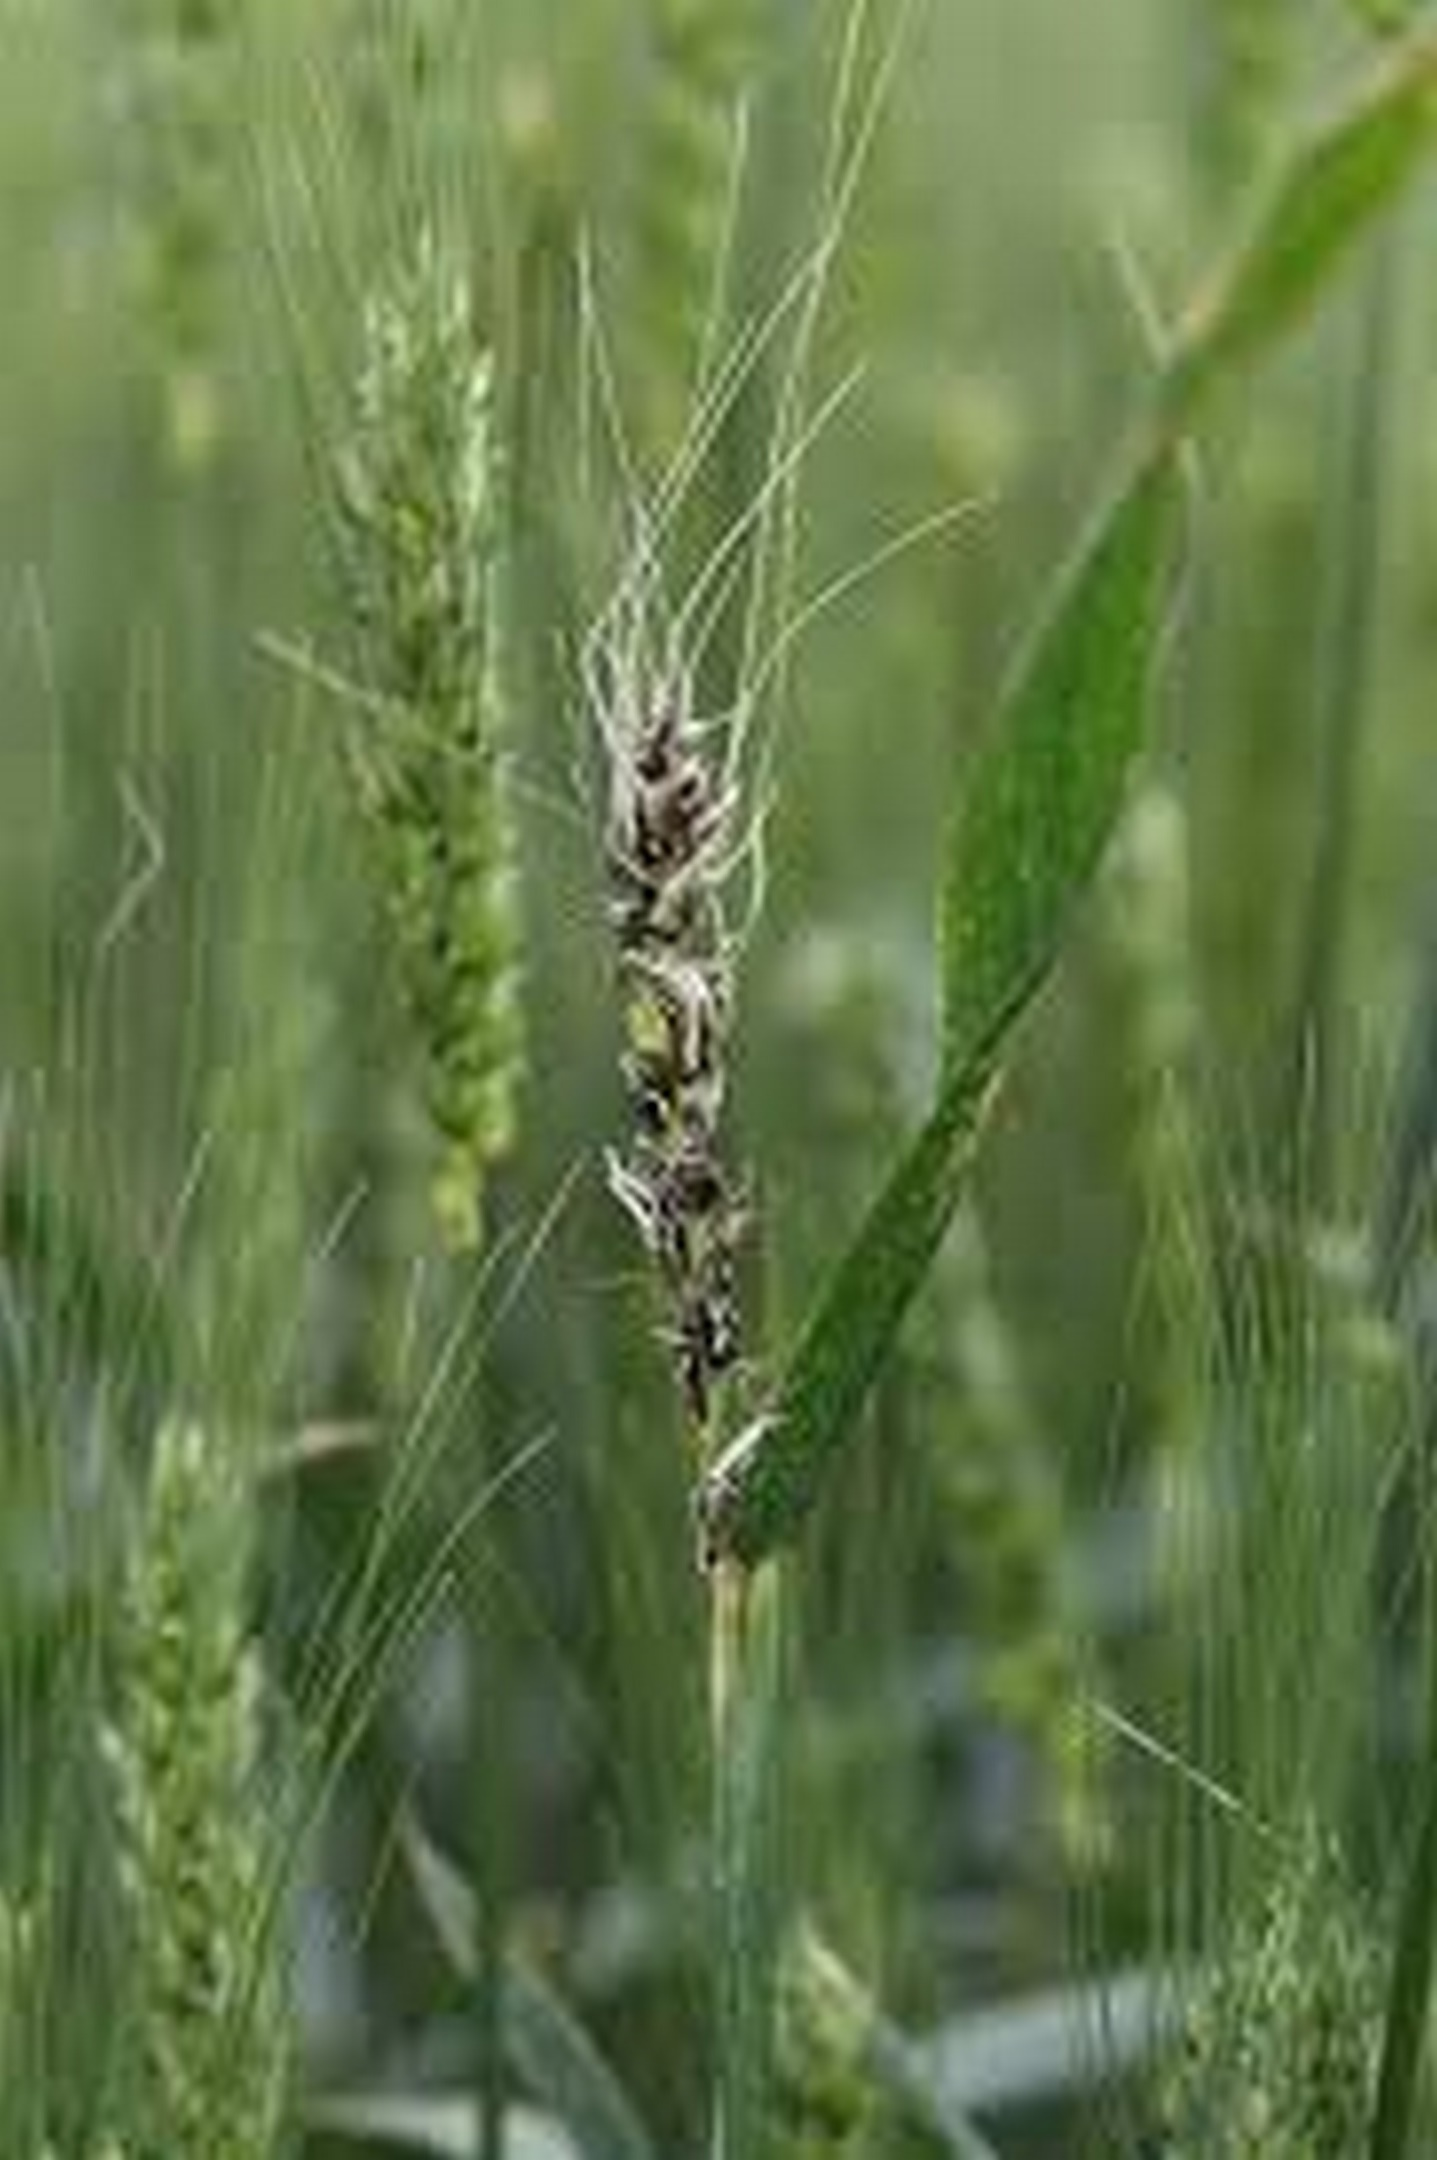Wheat Loose Smut: (568, 653, 820, 1387)
